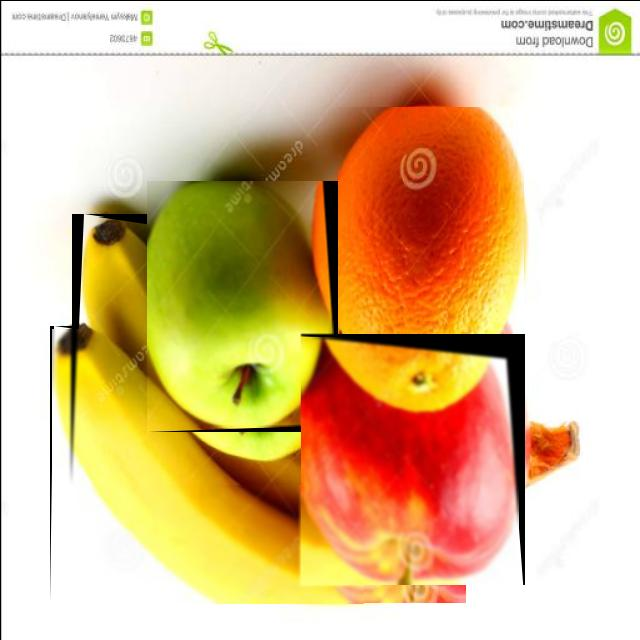Apple: (301, 336, 519, 584), (147, 180, 334, 426)
Banana: (53, 328, 364, 602), (81, 216, 304, 483)
Orange: (324, 106, 523, 387)
